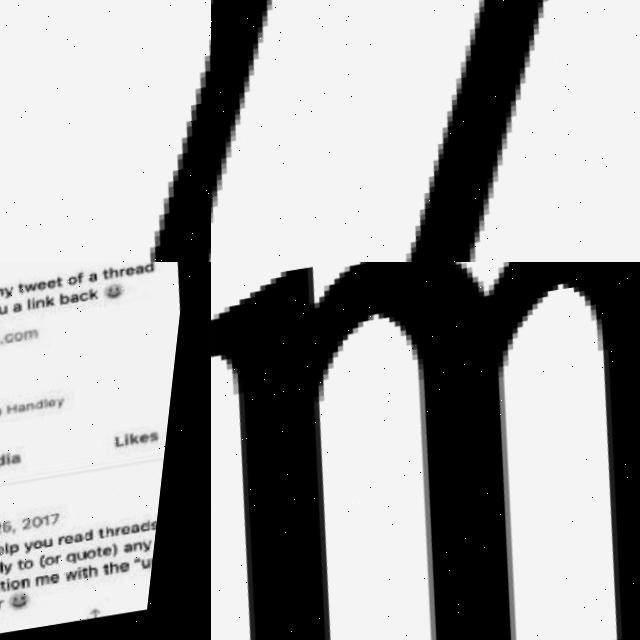0: (42, 515, 54, 528)
1: (53, 513, 62, 526)
2: (1, 522, 14, 535), (32, 517, 43, 530)
5: (11, 521, 25, 534)
7: (60, 513, 71, 526)
M: (211, 262, 640, 640)
U: (211, 0, 640, 262)
